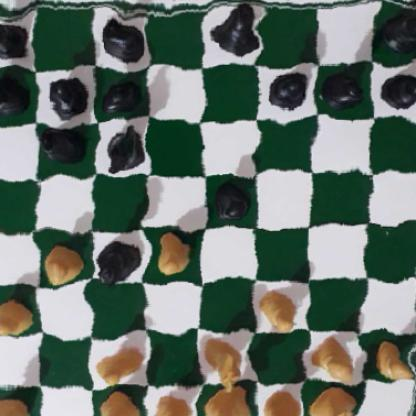black-bishop: (101, 6, 149, 58), (36, 124, 87, 168)
black-king: (211, 3, 260, 59)
black-knight: (103, 115, 145, 169)
black-pawn: (46, 69, 90, 116), (264, 66, 312, 109), (325, 65, 367, 109), (100, 73, 141, 115), (209, 182, 251, 221), (383, 67, 416, 110), (0, 73, 30, 114)
black-queen: (88, 237, 141, 287)
black-rook: (382, 0, 416, 54), (0, 8, 30, 66)
white-bishop: (260, 390, 303, 416), (99, 390, 140, 416)
white-king: (200, 382, 251, 416)
white-knight: (197, 333, 245, 398)
white-pawn: (310, 334, 360, 380), (99, 341, 144, 389), (151, 230, 196, 273), (260, 284, 302, 330), (40, 244, 83, 288), (369, 340, 416, 377), (0, 293, 33, 336)
white-queen: (150, 390, 195, 416)
white-rook: (308, 383, 369, 416), (0, 391, 32, 416)
